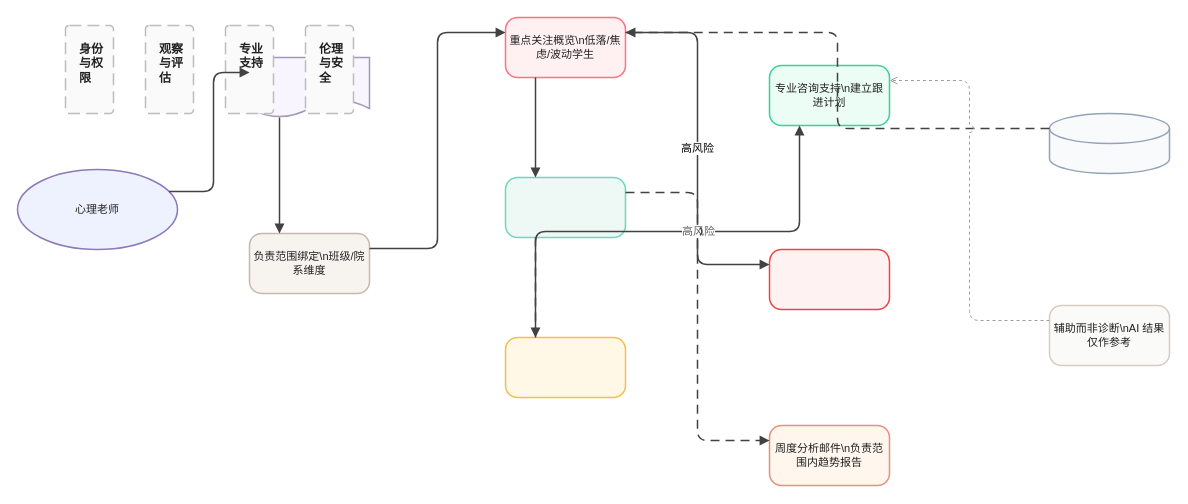
Image size: 1188x504. Some labels were removed from this diagram. Each missing label, with the centre of its shape:
"AI 辅助摘要\n脱敏心理状态概览" goes at (565,367).
"危机识别与转介\n必要时线下介入" goes at (829,279).
"心理老师认证\n资质/院系/负责范围" goes at (309,87).
"长期趋势观察\n连续低谷/恢复轨迹" goes at (565,207).
"隐私最小化\n默认不看原始日记正文" goes at (1109,143).
